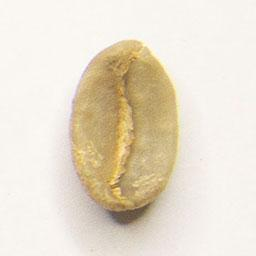longberry: (68, 37, 181, 215)
